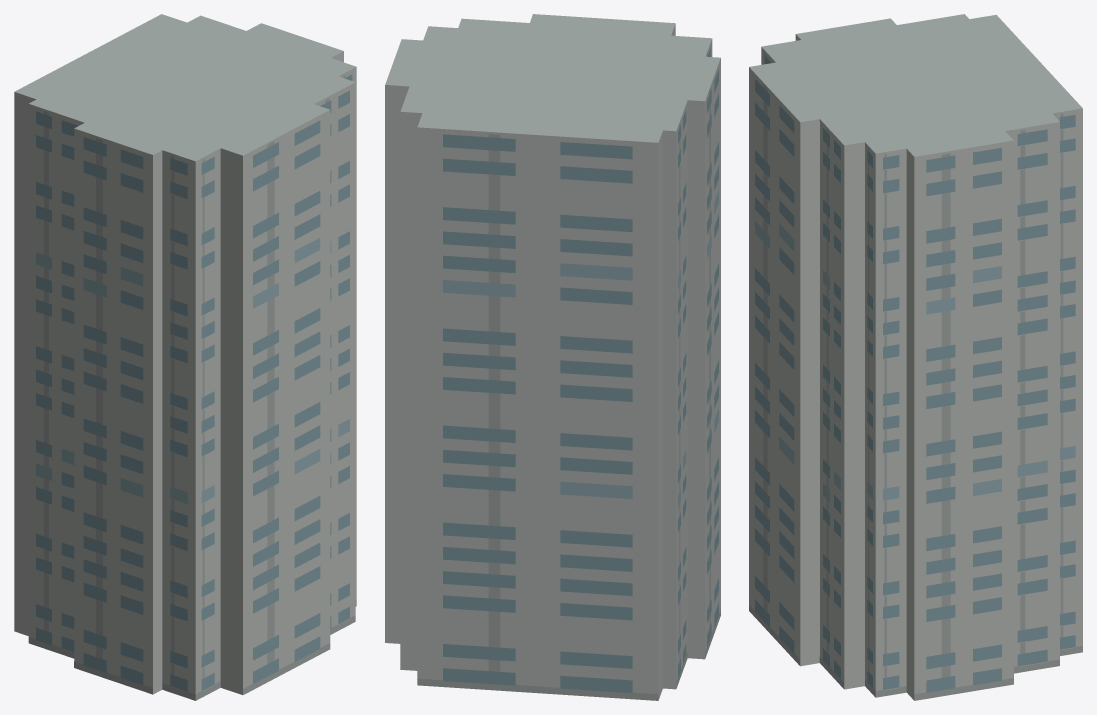
Rendered from residential-179d1c29-82a7-4f7d-b6a8-18926e02383e.glb.
3 views of the same model, side by side, from view 1: azimuth 30°, elevation 25°; view 2: azimuth 150°, elevation 25°; view 3: azimuth 270°, elevation 25° (orthographic). The views are drawn at different scales.
Visible parts, largest first — view 1: residential-179d1c29-82a7-4f7d-b6a8-18926e02383e.tmp; view 2: residential-179d1c29-82a7-4f7d-b6a8-18926e02383e.tmp; view 3: residential-179d1c29-82a7-4f7d-b6a8-18926e02383e.tmp.
Boxes of the visible parts, x1=… form: residential-179d1c29-82a7-4f7d-b6a8-18926e02383e.tmp: x1=14, y1=14, x2=356, y2=700; residential-179d1c29-82a7-4f7d-b6a8-18926e02383e.tmp: x1=385, y1=14, x2=720, y2=700; residential-179d1c29-82a7-4f7d-b6a8-18926e02383e.tmp: x1=749, y1=14, x2=1082, y2=700.
Size of the model in its own units: 34.94 by 62 by 34.5.
